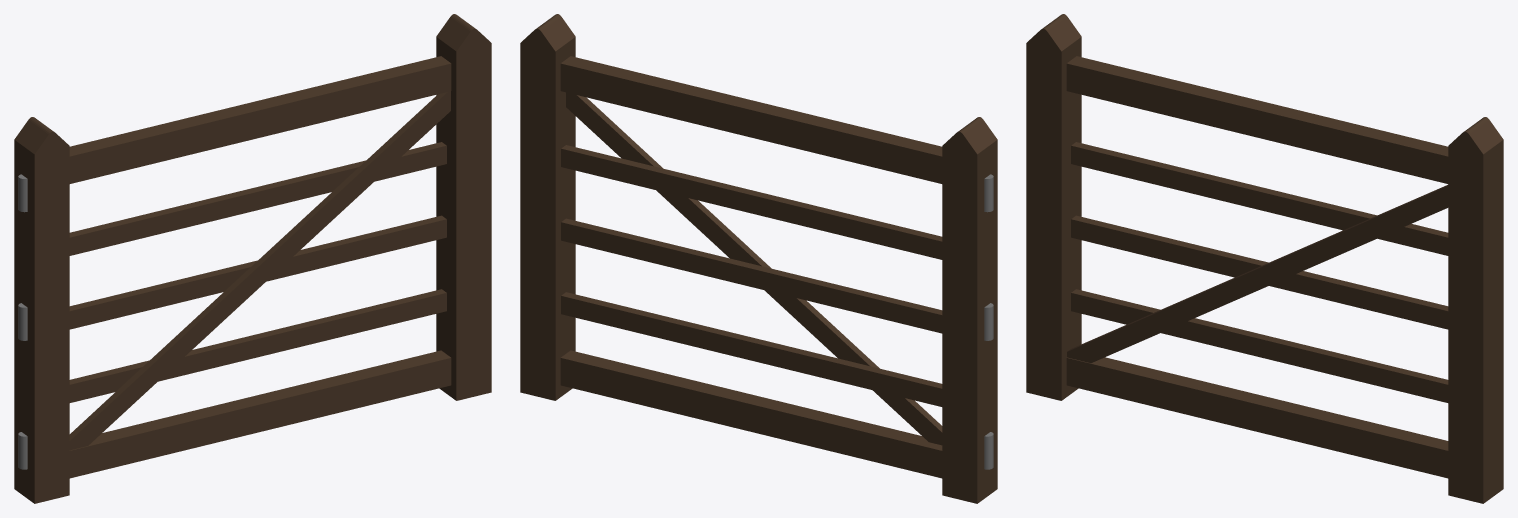
The model's file is Barn Fence gates Left.glb.
3 renders of one model, left to right at view 1: azimuth 30°, elevation 25°; view 2: azimuth 150°, elevation 25°; view 3: azimuth 330°, elevation 25°, orthographic.
Visible parts, largest first — view 1: Barn fence gate Left; view 2: Barn fence gate Left; view 3: Barn fence gate Left.
Boxes of the visible parts, x1=… form: Barn fence gate Left: x1=14, y1=14, x2=491, y2=503; Barn fence gate Left: x1=520, y1=14, x2=997, y2=503; Barn fence gate Left: x1=1026, y1=14, x2=1503, y2=503.
Size of the model in its own units: 2.63 by 2 by 0.2.
2 materials, 2 textured.
